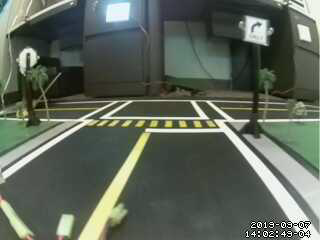Right_only_sign: (241, 14, 269, 48)
